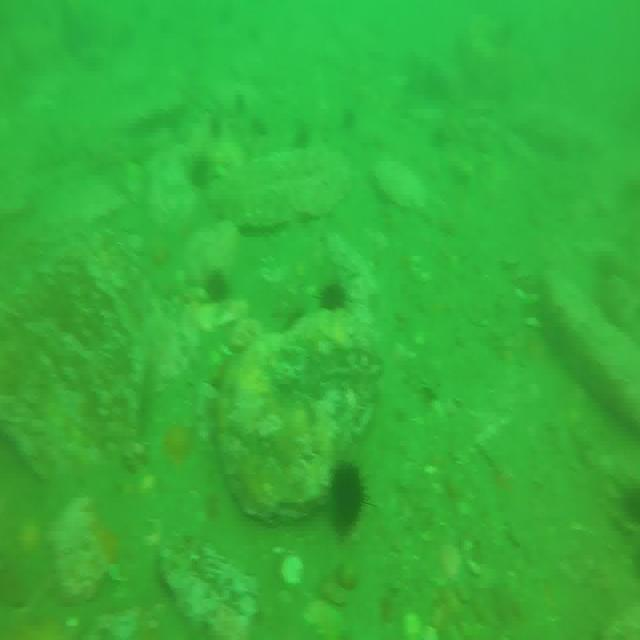echinus: (328, 458, 365, 528), (320, 282, 350, 318), (192, 156, 212, 191), (206, 272, 226, 304), (295, 120, 311, 155)
scallop: (279, 551, 306, 587)
